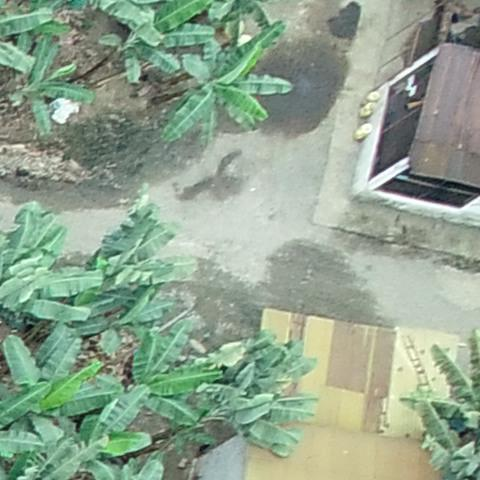Banana-plant: (191, 316, 324, 458), (171, 18, 295, 158), (0, 320, 119, 426), (0, 205, 102, 327), (114, 315, 220, 430), (82, 196, 181, 318), (0, 29, 96, 141), (101, 0, 216, 91), (0, 404, 120, 480), (67, 384, 155, 478)
